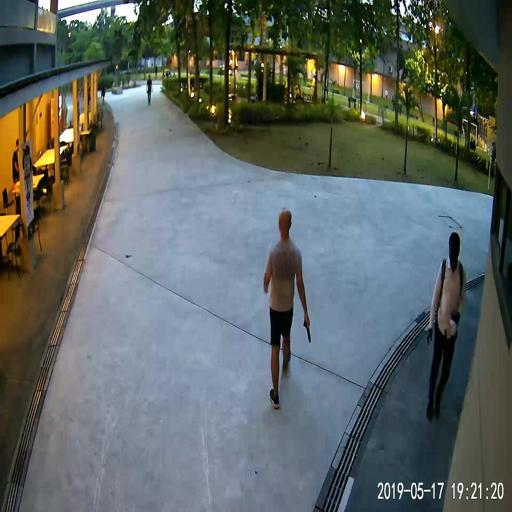pistol: (303, 316, 311, 342)
